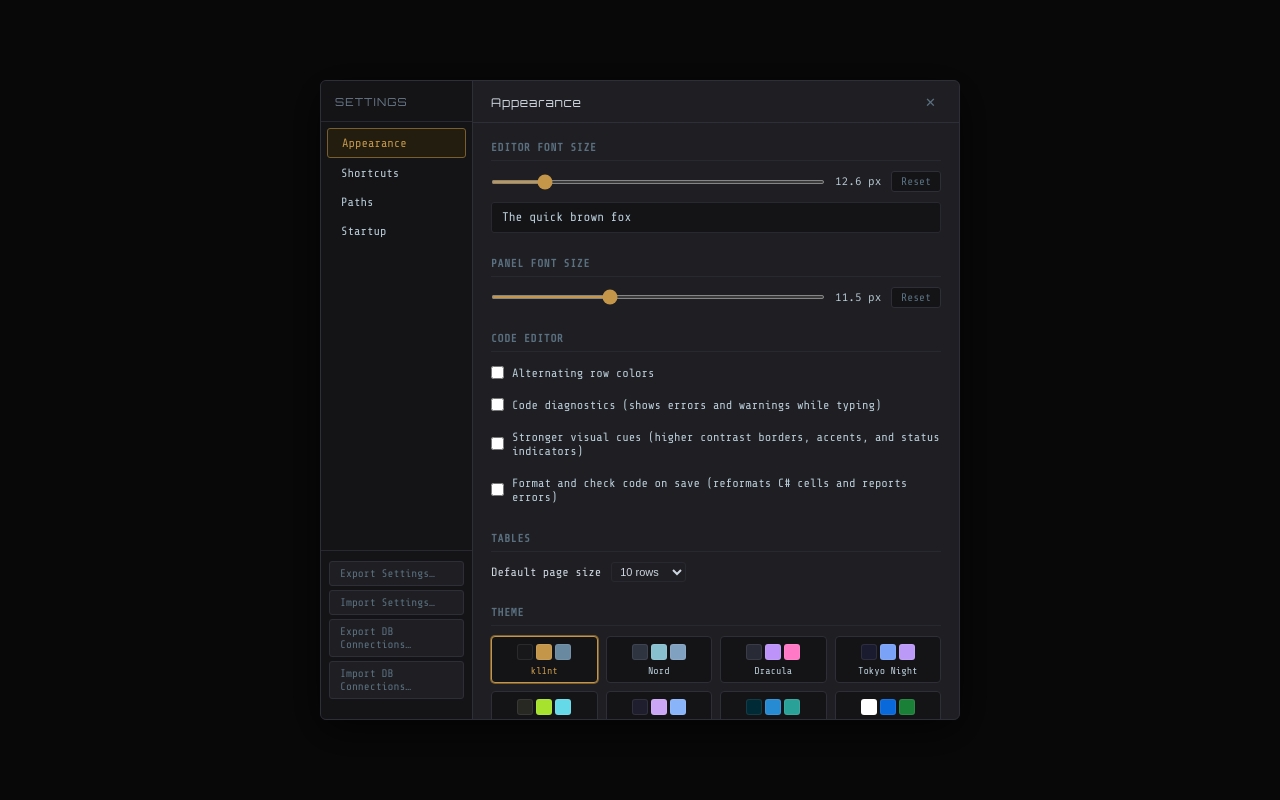
Test: section navigation › switches to Paths section on click
Click the button with class "settings-section-btn" showing "Paths" at (396, 202), box [327,188,466,216]
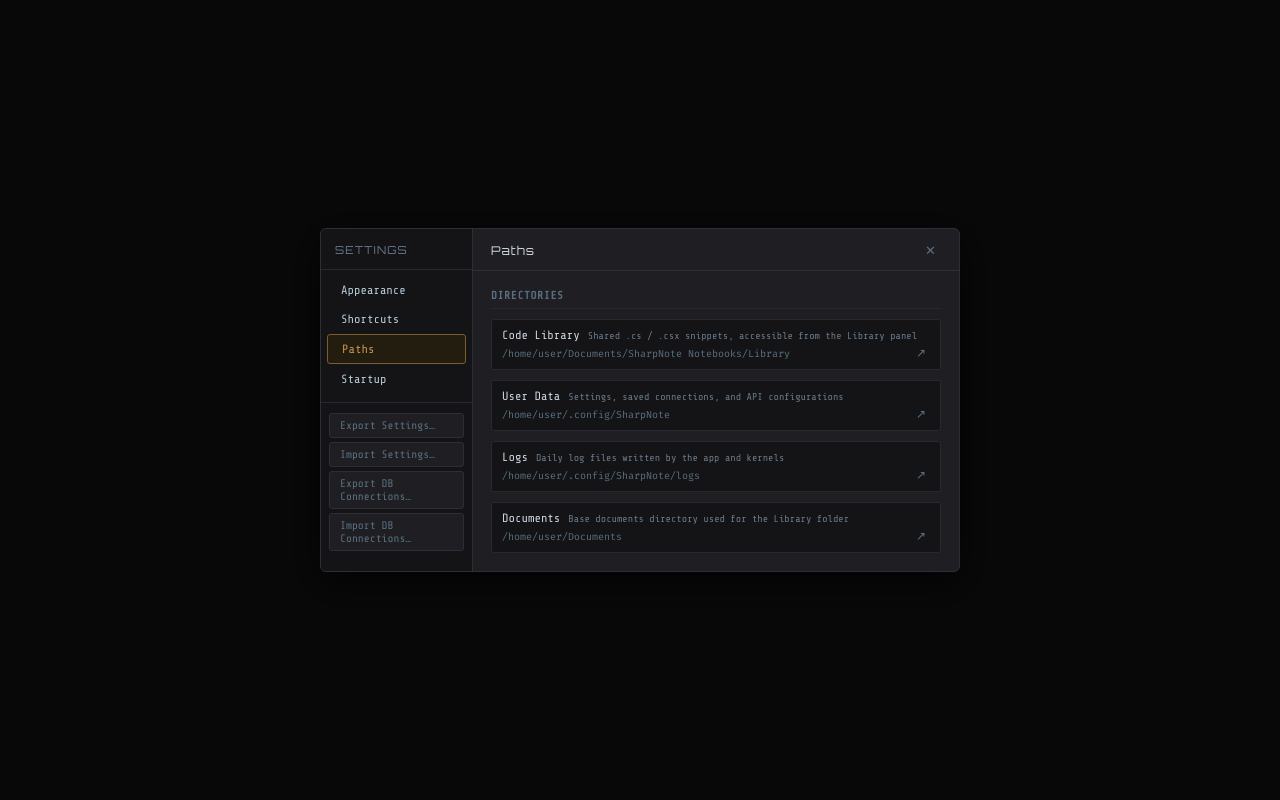
Expected: the text "Code Library" is shown, [502,328,580,342]
